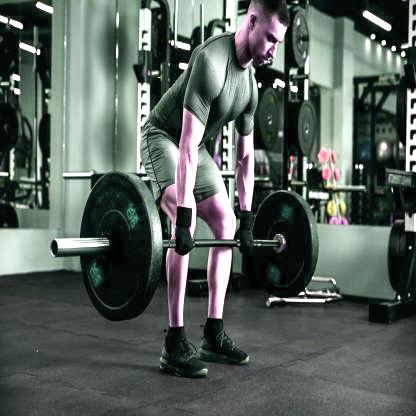Barbell: (48, 232, 60, 265)
